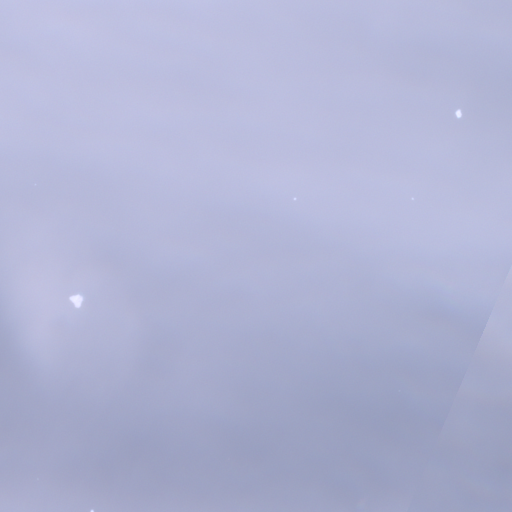Iceberg: (70, 295, 82, 307), (456, 110, 461, 117), (294, 198, 295, 199), (412, 198, 413, 199)
